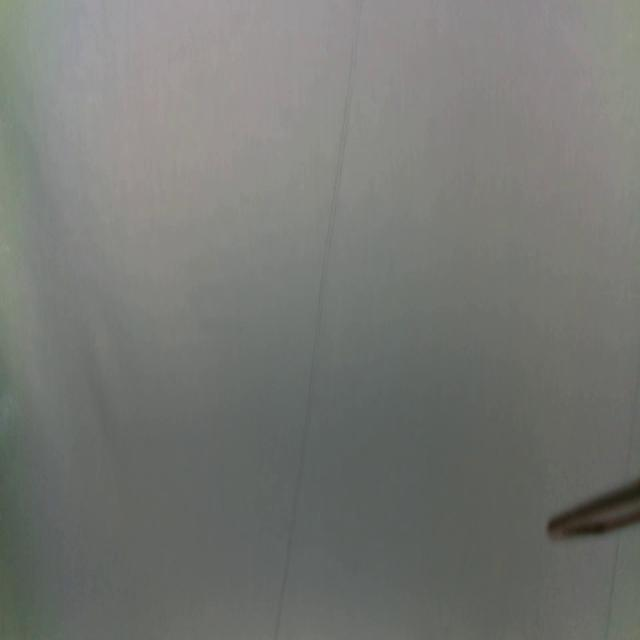crease: (272, 30, 362, 640)
